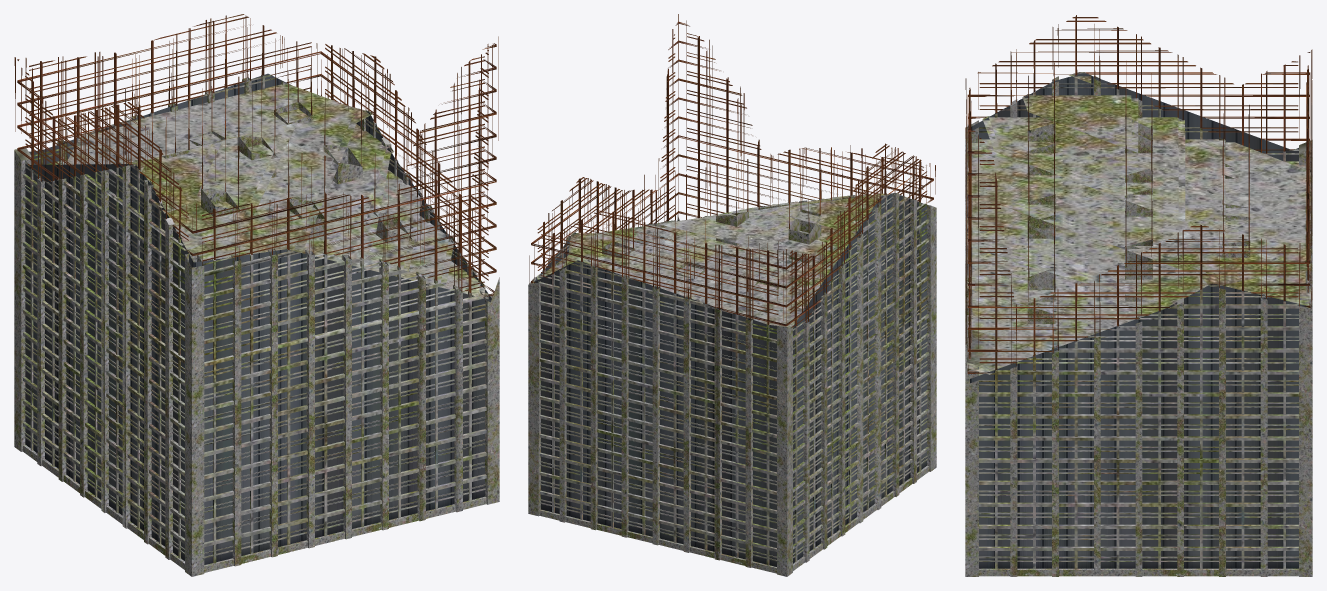
Rendered from ruin-5.glb.
The picture shows the model from 3 angles, left to right: view 1: azimuth 30°, elevation 25°; view 2: azimuth 150°, elevation 25°; view 3: azimuth 270°, elevation 25°; orthographic projection. The views are drawn at different scales.
Visible parts, largest first — view 1: Building 05; view 2: Building 05; view 3: Building 05.
Boxes of the visible parts, bbox=[...] form: Building 05: bbox=[14, 14, 499, 576]; Building 05: bbox=[528, 14, 936, 576]; Building 05: bbox=[965, 15, 1312, 576].
Size of the model in its own units: 3.74 by 5.4 by 3.74.
3 materials, 3 textured.
